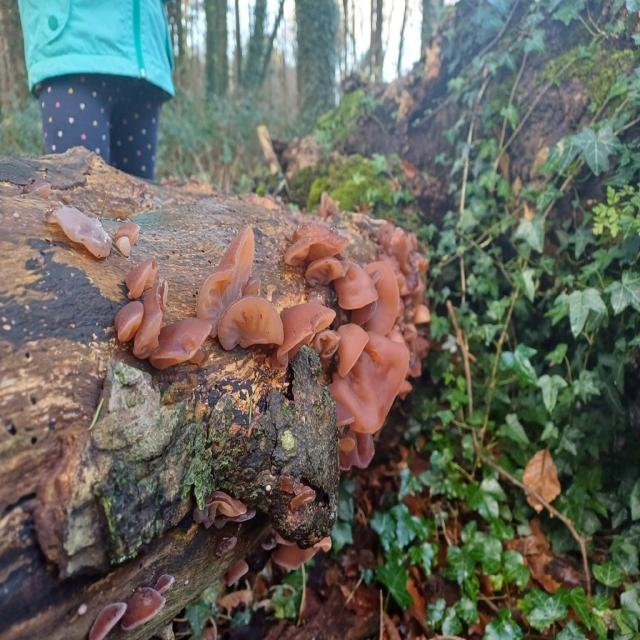Fase Muda: (341, 327, 406, 442), (200, 218, 262, 330), (88, 566, 179, 640), (196, 486, 255, 596), (47, 201, 116, 267), (281, 287, 335, 368), (218, 294, 283, 356), (286, 202, 344, 260), (150, 316, 212, 370), (365, 256, 400, 335), (342, 254, 378, 326), (336, 322, 368, 378), (129, 253, 164, 294), (115, 298, 146, 342), (305, 256, 347, 288)
primordia: (337, 430, 357, 480), (116, 228, 136, 256)
